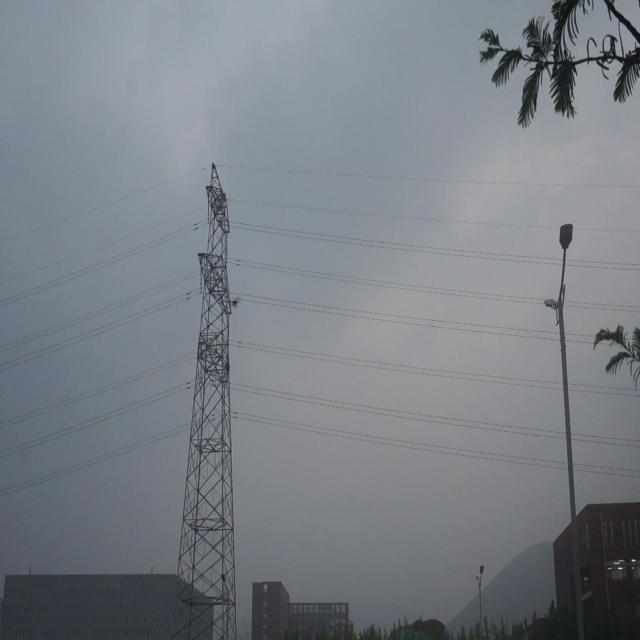UAV: (231, 296, 241, 308)
